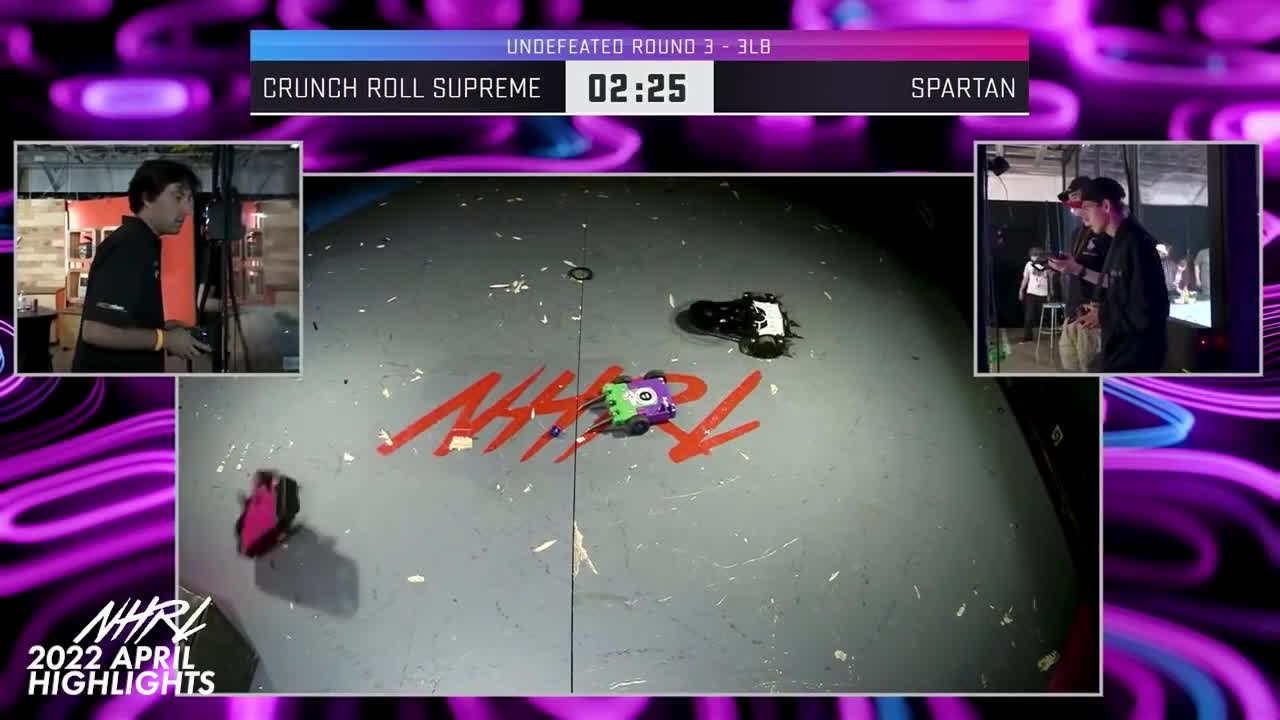belt: (561, 262, 596, 284)
combatbot: (683, 293, 801, 359), (233, 467, 301, 560)
minibot: (587, 372, 674, 437)
